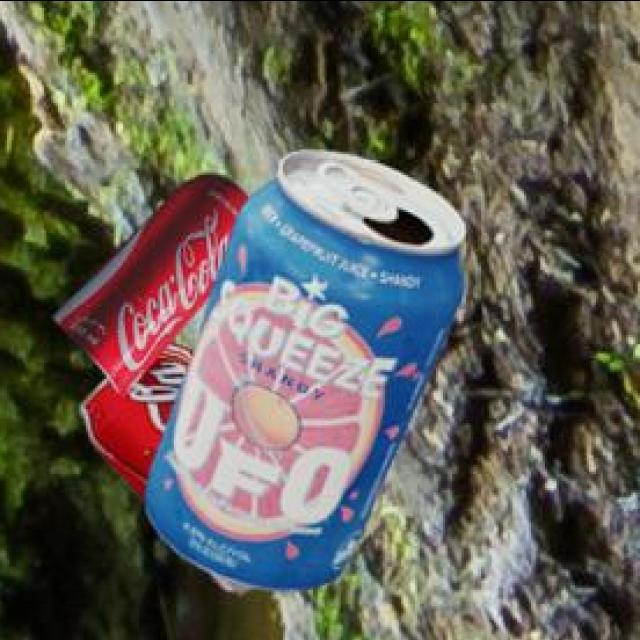logam: (143, 154, 463, 592), (50, 175, 247, 400), (78, 344, 227, 507)
